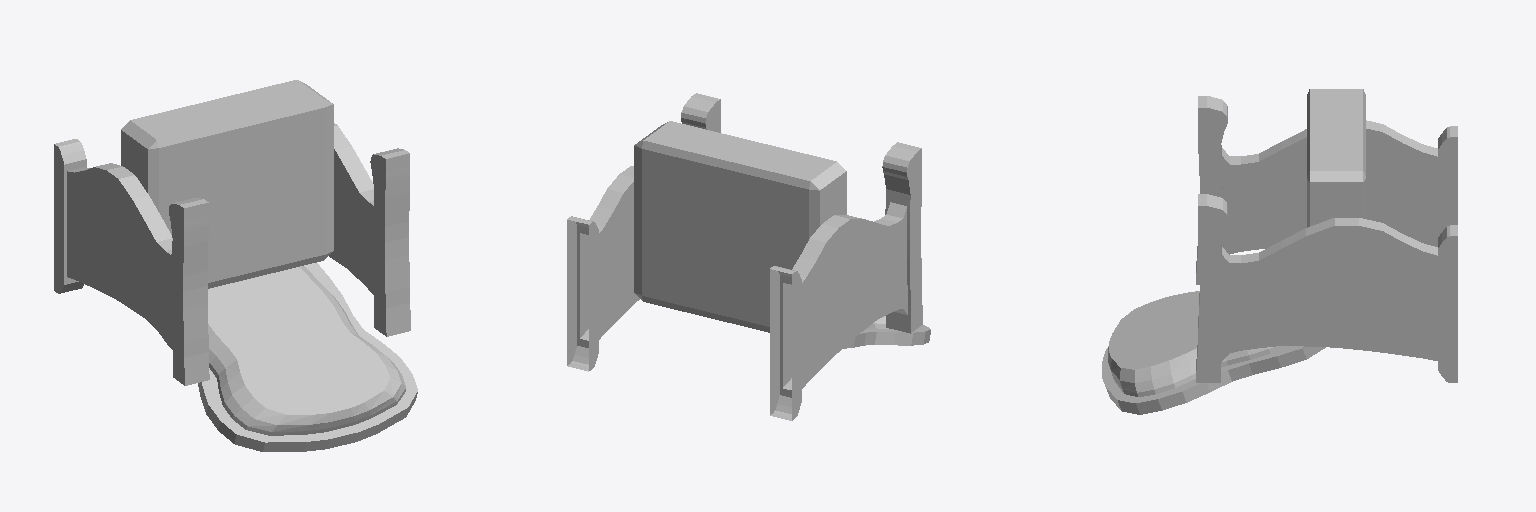
Rendered from chair3.obj.
3 renders of one model, left to right at view 1: azimuth 30°, elevation 25°; view 2: azimuth 150°, elevation 25°; view 3: azimuth 270°, elevation 25°, orthographic.
Visible parts, largest first — view 1: Cube.001_Cube; view 2: Cube.001_Cube; view 3: Cube.001_Cube.
Part boxes in pixels (x1,y1,x2,y2): Cube.001_Cube: (54,80,417,451); Cube.001_Cube: (567,93,930,420); Cube.001_Cube: (1102,89,1457,414).
Bounding box in the file's own units: 8.36 × 8.89 × 11.41.